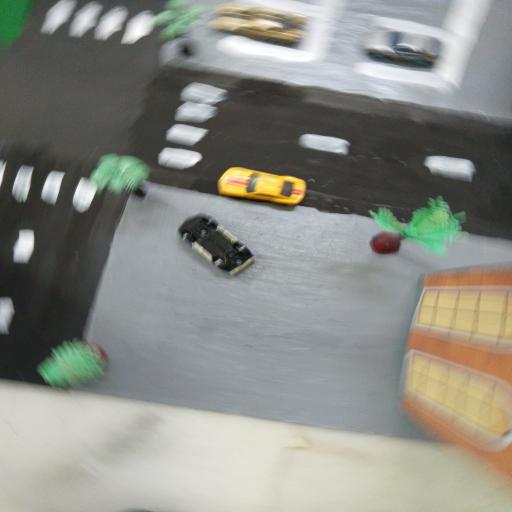car crash: (179, 210, 263, 276)
